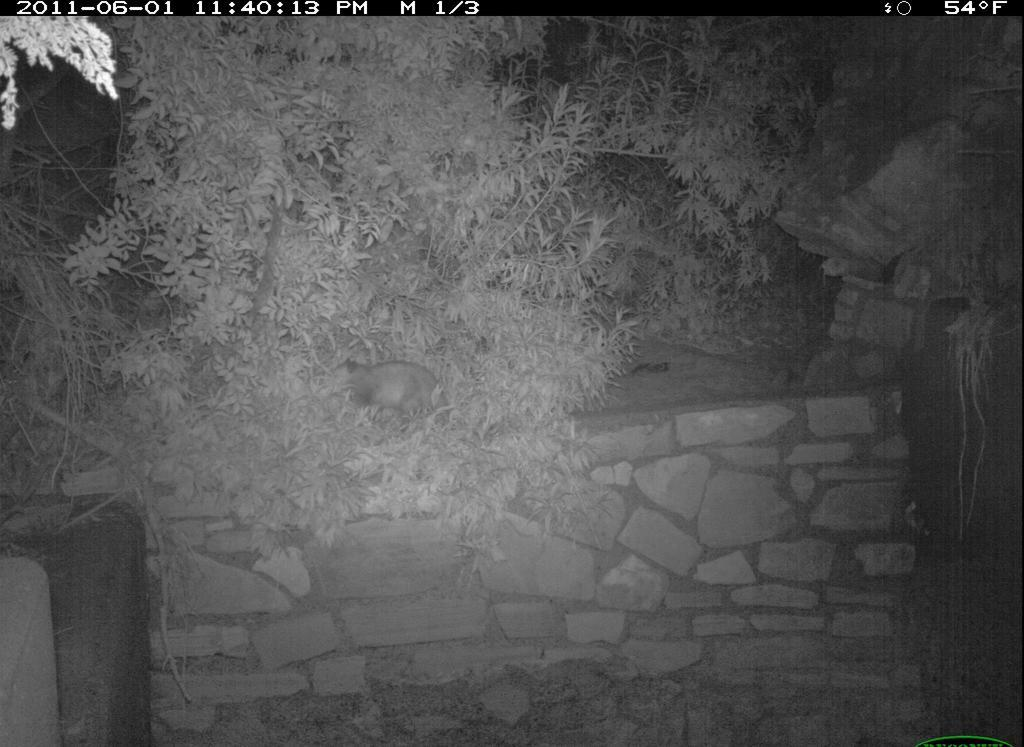opossum: (327, 356, 458, 431)
